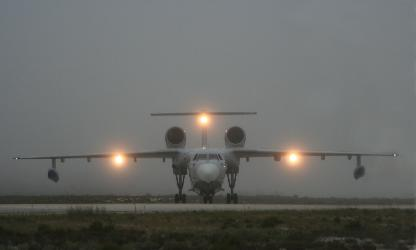B52: (12, 104, 398, 202)
